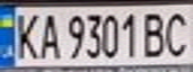0: (103, 10, 121, 60)
1: (121, 10, 142, 60)
3: (81, 10, 106, 60)
9: (63, 11, 84, 60)
A: (36, 10, 63, 61)
B: (139, 9, 172, 58)
C: (160, 8, 193, 59)
K: (12, 9, 42, 61)
